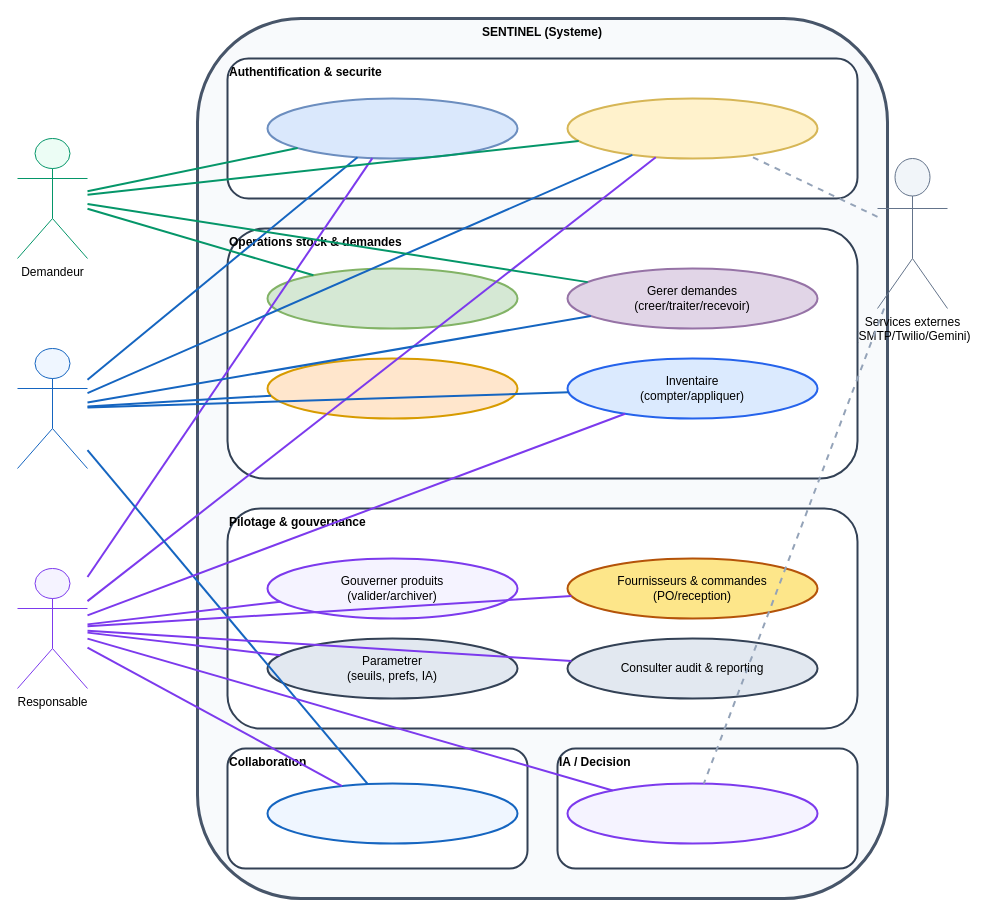
Image size: 988x917. Some labels were removed from this diagram. The centre of each missing label's shape, as x and y in pixels:
"Assistant IA & Copilote (alertes/reco/mini-rapports)" belongs at (692,813).
"Chat (direct + threads)" belongs at (392,813).
"Consulter catalogue (produits approuves)" belongs at (392,298).
"Magasinier" belongs at (52,408).
"Mouvements stock FIFO (entree/sortie/lots/QR)" belongs at (392,388).
"Recuperer mot de passe (OTP email/SMS/WA)" belongs at (692,128).
"Se connecter (login/refresh/logout)" belongs at (392,128).
